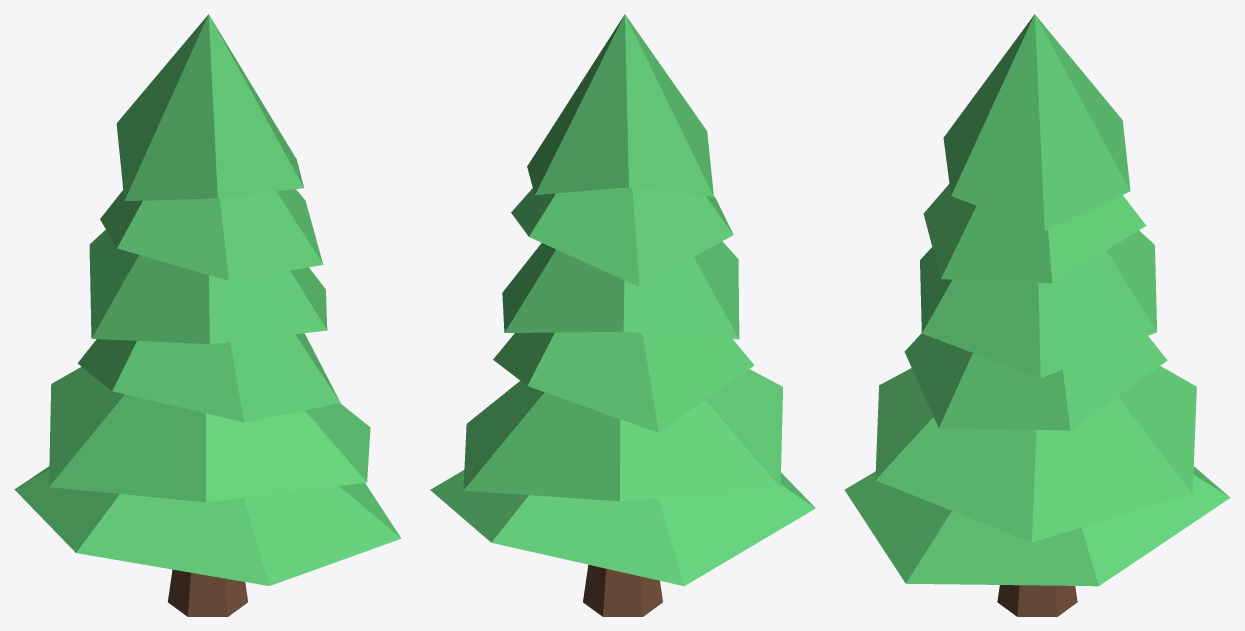
Rendered from fir_tree_poly_1.fbx.
3 renders of one model, left to right at view 1: azimuth 30°, elevation 25°; view 2: azimuth 150°, elevation 25°; view 3: azimuth 270°, elevation 25°, orthographic.
Visible parts, largest first — view 1: fir_tree_poly_1; view 2: fir_tree_poly_1; view 3: fir_tree_poly_1.
Boxes of the visible parts, <box> form: fir_tree_poly_1: <box>14,14,401,616</box>; fir_tree_poly_1: <box>430,14,815,616</box>; fir_tree_poly_1: <box>844,14,1230,616</box>.
Size of the model in its own units: 4.29 by 7.42 by 4.42.
